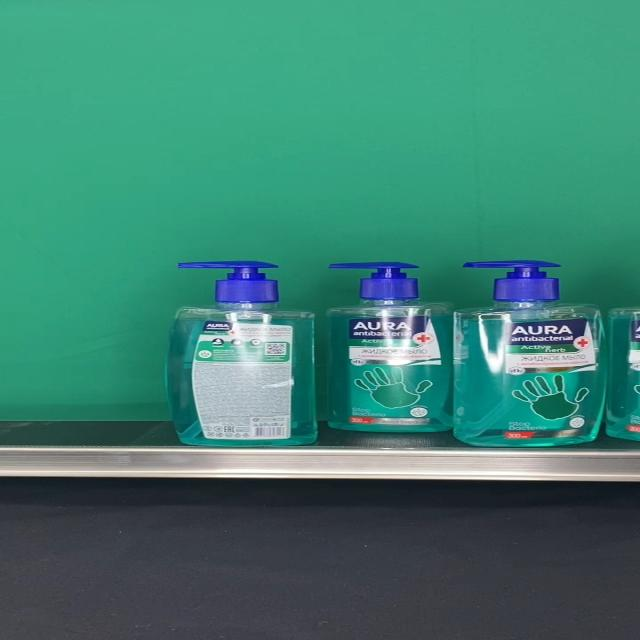Bottle: (454, 260, 608, 446), (165, 261, 318, 447), (322, 261, 453, 432)
Cap: (179, 260, 280, 302), (462, 260, 563, 302), (326, 261, 422, 299)
